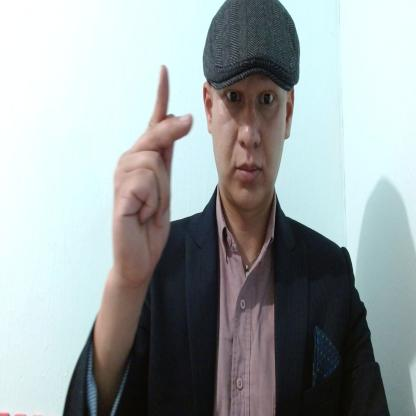P: (111, 58, 196, 287)
